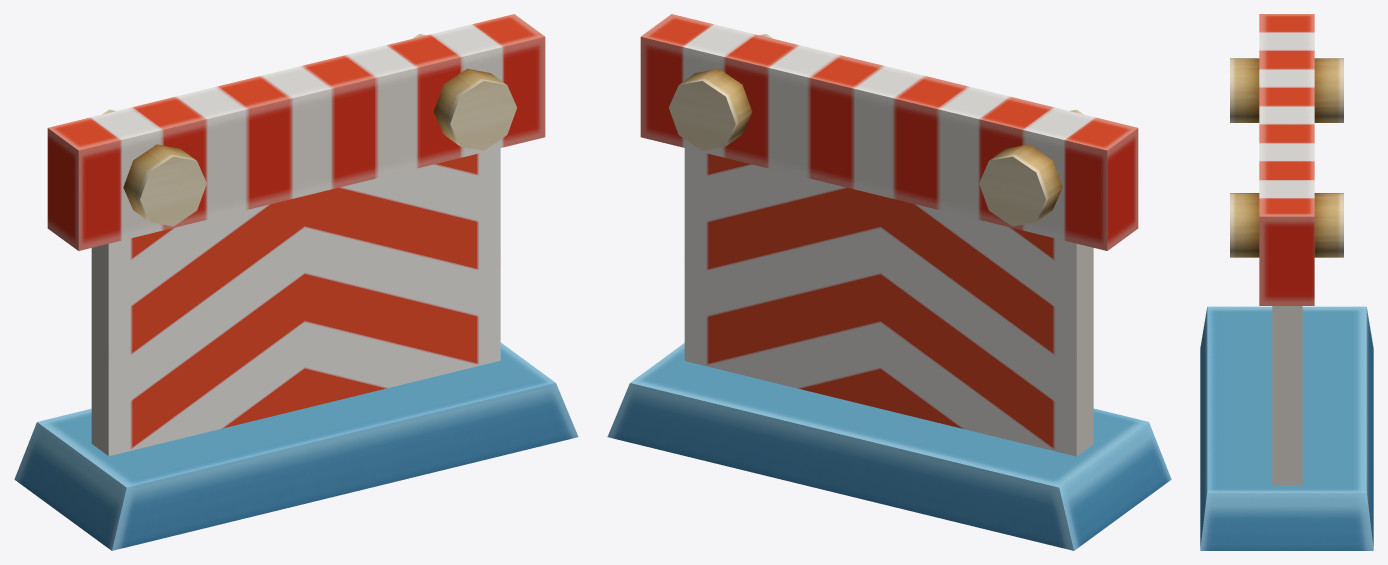
The model's file is Trap02.FBX.
3 renders of one model, left to right at view 1: azimuth 30°, elevation 25°; view 2: azimuth 150°, elevation 25°; view 3: azimuth 270°, elevation 25°, orthographic. The views are drawn at different scales.
Parts seen in each view (by area): view 1: Trap02; view 2: Trap02; view 3: Trap02.
Part boxes in pixels (x1,y1,x2,y2): Trap02: [14, 14, 578, 550]; Trap02: [607, 14, 1171, 550]; Trap02: [1200, 14, 1373, 550].
Size of the model in its own units: 140 by 108 by 50.69.
